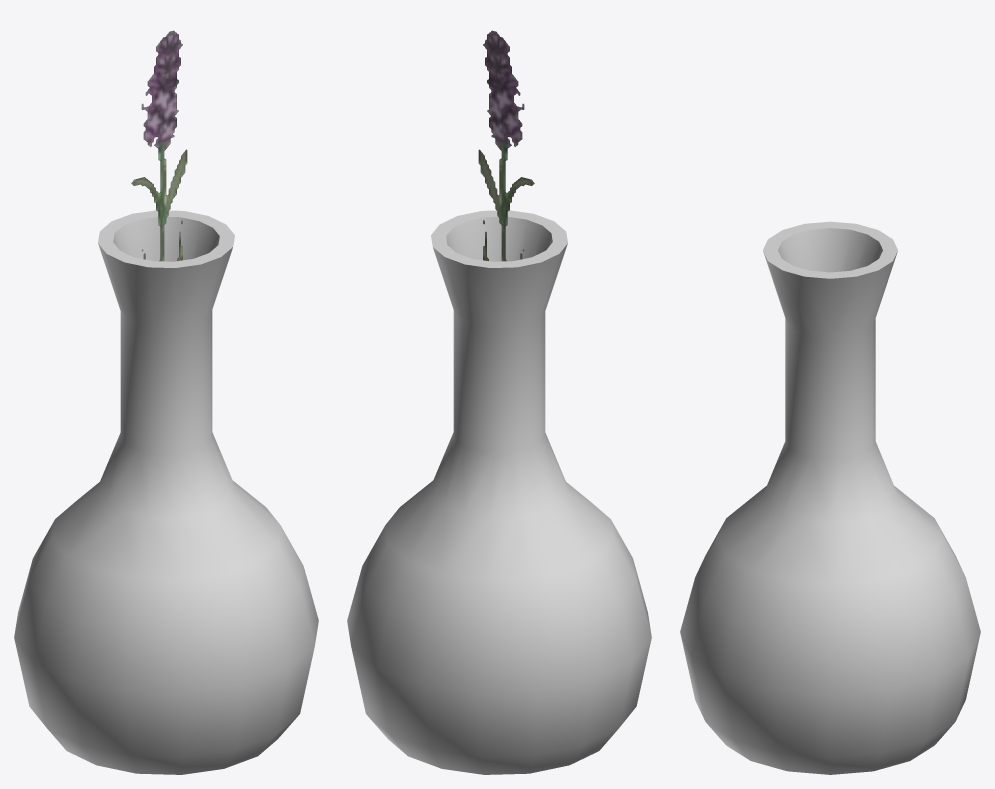
Rendered from vase.fbx.
3 renders of one model, left to right at view 1: azimuth 30°, elevation 25°; view 2: azimuth 150°, elevation 25°; view 3: azimuth 270°, elevation 25°, orthographic. The views are drawn at different scales.
Visible parts, largest first — view 1: vase, lavender; view 2: vase, lavender; view 3: vase.
Part boxes in pixels (box(x1,y1,x2,y2)): vase: box(14, 210, 318, 774); lavender: box(131, 30, 187, 261); vase: box(347, 210, 651, 774); lavender: box(478, 30, 534, 261); vase: box(680, 221, 980, 774).
Size of the model in its own units: 20 by 50 by 20.
